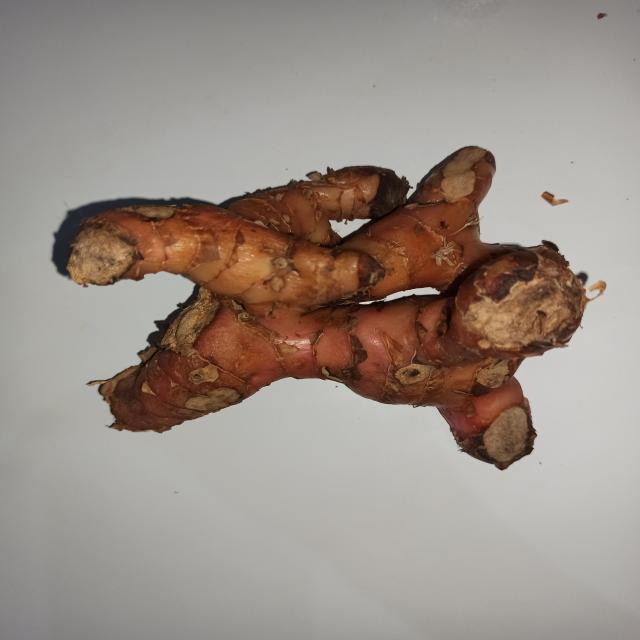ginger: (48, 158, 583, 466)
